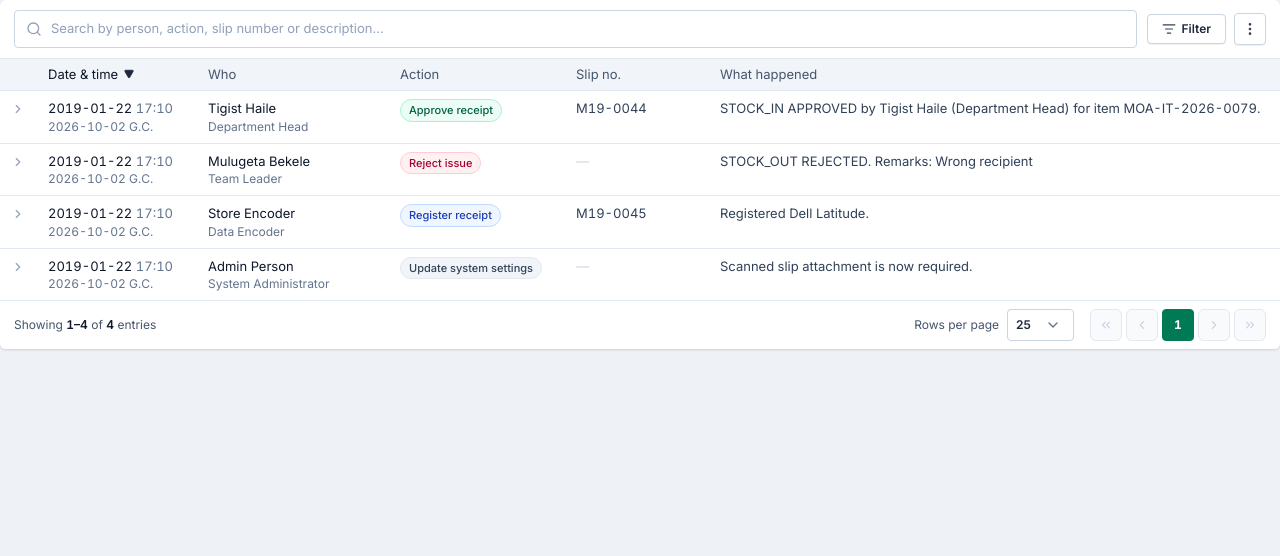
Test: Audit log: an opened entry › still opens when the requests or records cannot be read by this role
Click the button named "Show details of Approve receipt by Tigist Haile" at (18, 109), box [8, 99, 28, 119]
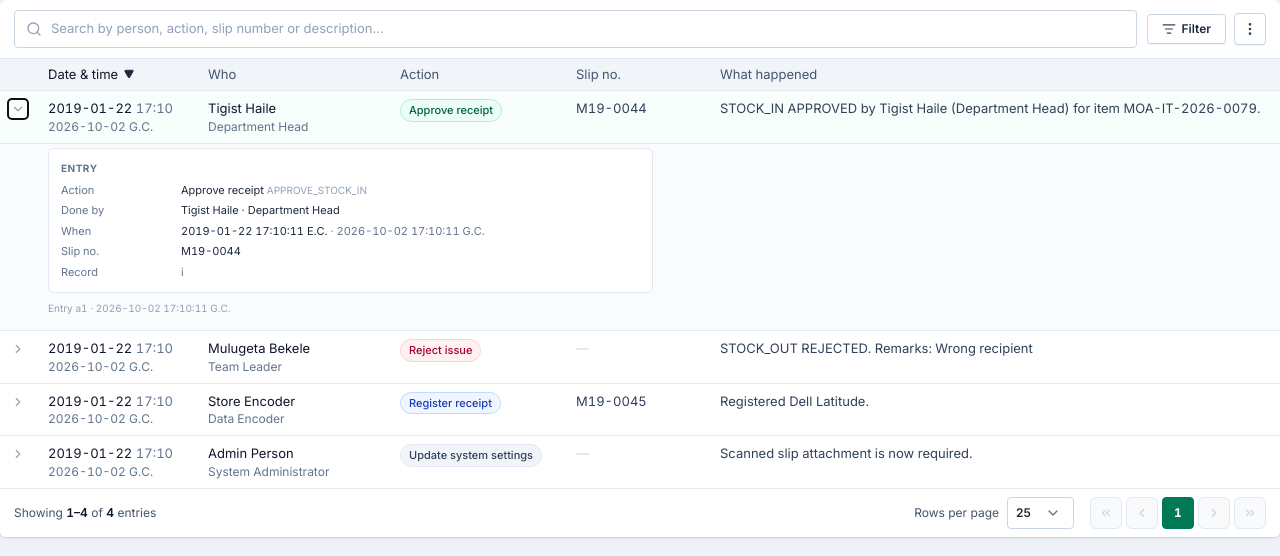
Check: the text "APPROVE_STOCK_IN" is shown, box [267, 184, 367, 196]
Check: the text "i" is shown, box [181, 264, 184, 278]
